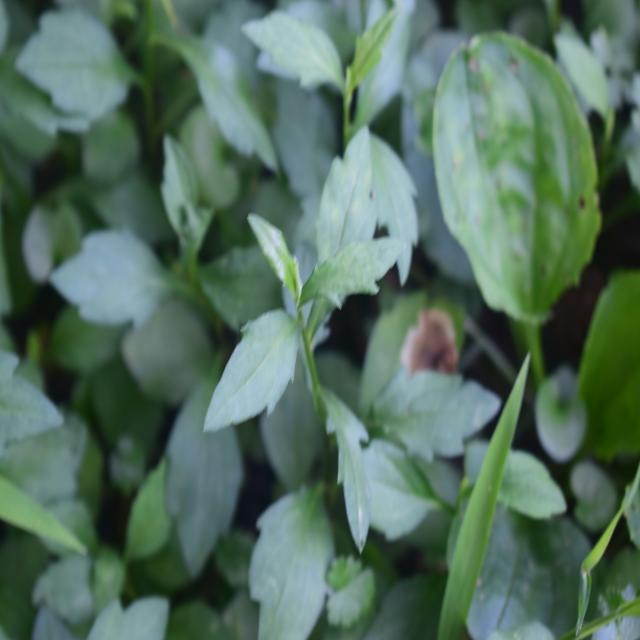Indian aster: (210, 150, 460, 544)
